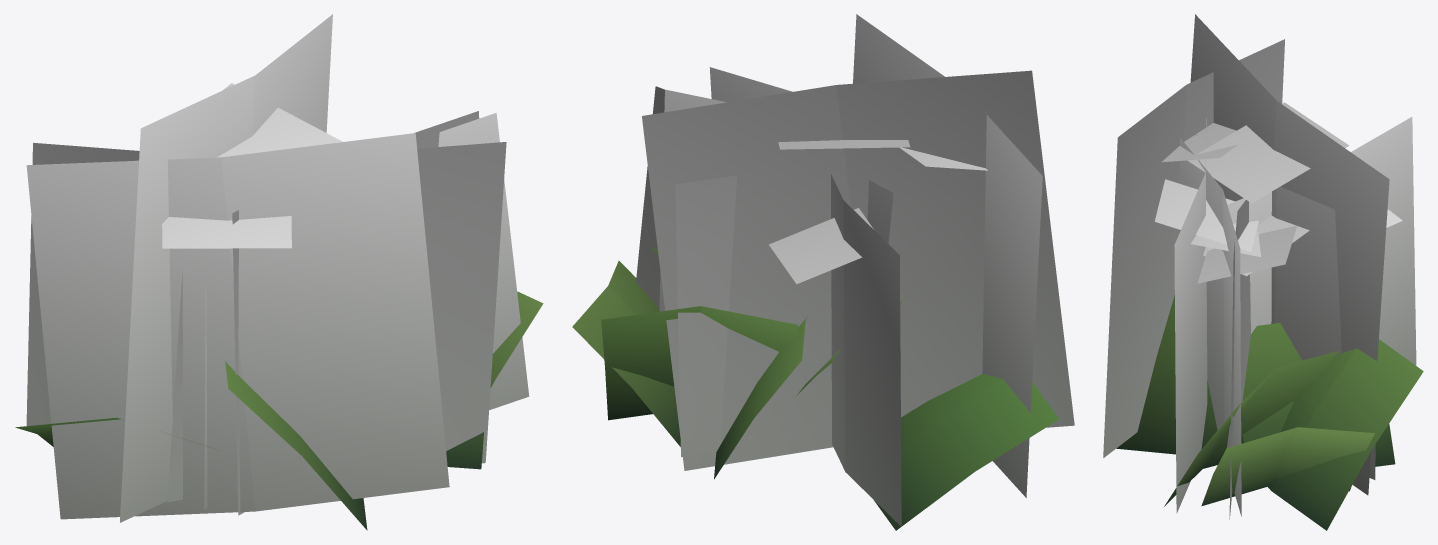
Rendered from daisy.glb.
3 views of the same model, side by side, from view 1: azimuth 30°, elevation 25°; view 2: azimuth 150°, elevation 25°; view 3: azimuth 270°, elevation 25° (orthographic). The views are drawn at different scales.
Visible parts, largest first — view 1: isl_daisy; view 2: isl_daisy; view 3: isl_daisy.
Part boxes in pixels (bbox=[...]): isl_daisy: bbox=[15, 14, 543, 530]; isl_daisy: bbox=[572, 14, 1074, 530]; isl_daisy: bbox=[1103, 14, 1423, 530].
Size of the model in its own units: 0.6193 by 0.497 by 0.3942.
